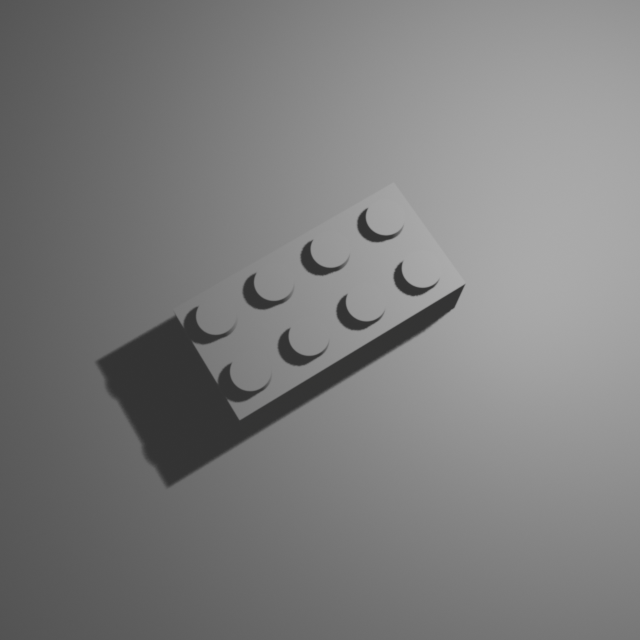lego_2x4: (171, 177, 468, 435)
